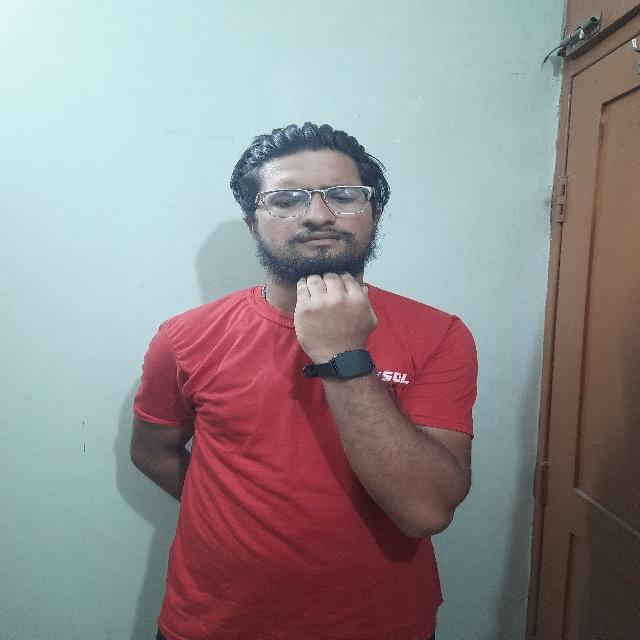Chin Flick: (232, 125, 398, 371)
